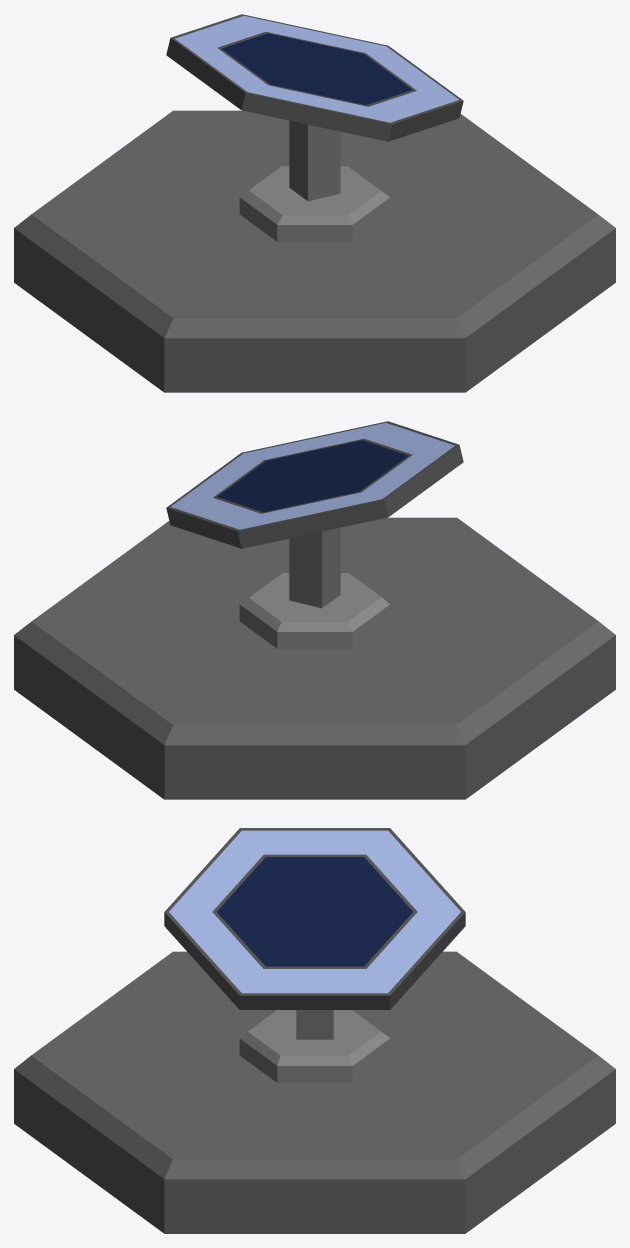
The model's file is SolarPanel_TD_1.fbx.
The picture shows the model from 3 angles, top to bottom: view 1: azimuth 30°, elevation 25°; view 2: azimuth 150°, elevation 25°; view 3: azimuth 270°, elevation 25°; orthographic projection.
Parts seen in each view (by area): view 1: Cylinder, Cylinder.001; view 2: Cylinder, Cylinder.001; view 3: Cylinder, Cylinder.001.
Part boxes in pixels (x1,y1,x2,y2): Cylinder: (14, 110, 615, 392); Cylinder.001: (166, 14, 463, 141); Cylinder: (14, 517, 615, 799); Cylinder.001: (166, 421, 463, 548); Cylinder: (14, 951, 615, 1233); Cylinder.001: (164, 828, 465, 1009).
Bounding box in the file's own units: 693 × 357 × 800.
